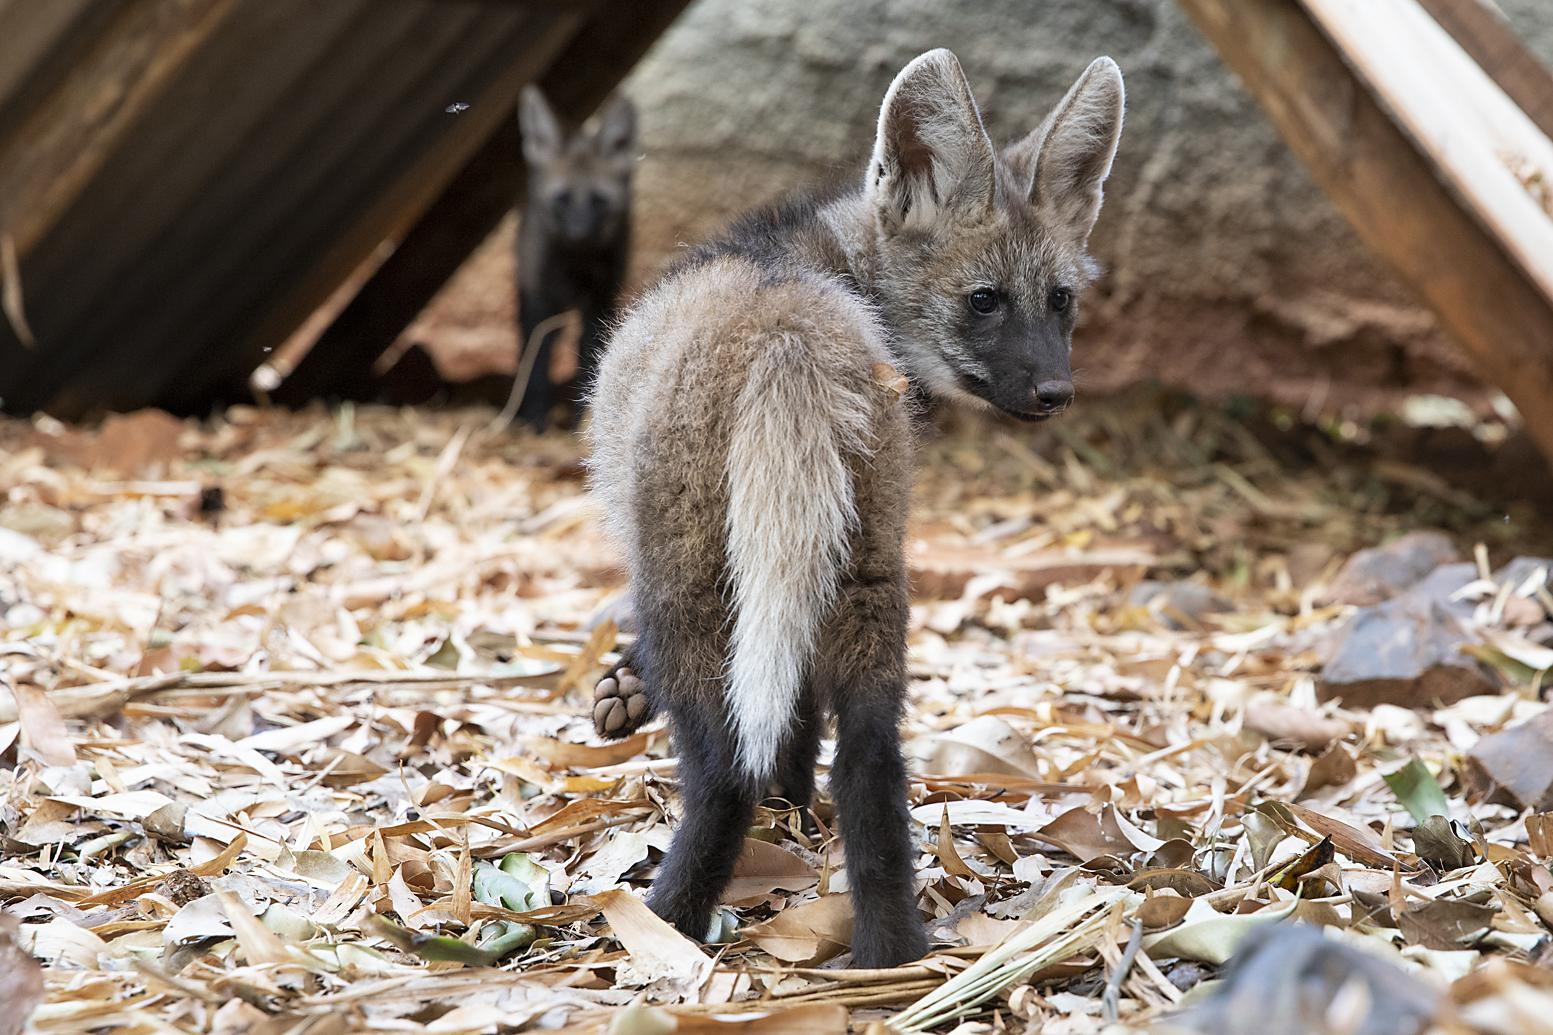LoboGuara: (607, 45, 1111, 965), (470, 77, 666, 416)
